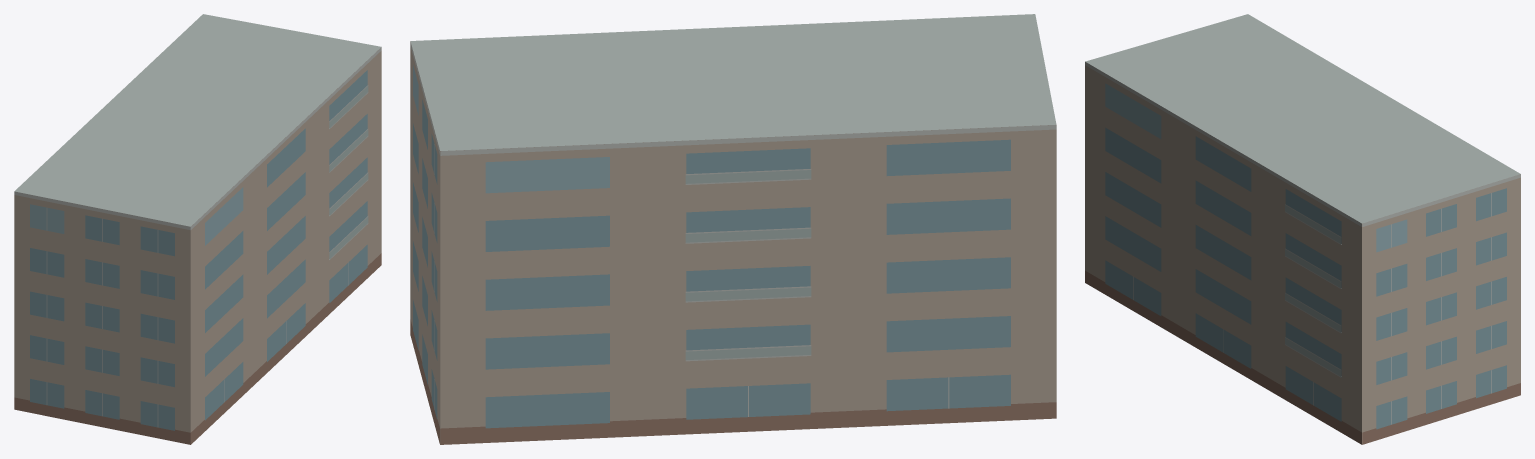
Rendered from survey-upis-32802772.glb.
The picture shows the model from 3 angles, left to right: view 1: azimuth 30°, elevation 25°; view 2: azimuth 150°, elevation 25°; view 3: azimuth 270°, elevation 25°; orthographic projection. The views are drawn at different scales.
Parts seen in each view (by area): view 1: survey-upis-32802772.tmp; view 2: survey-upis-32802772.tmp; view 3: survey-upis-32802772.tmp.
Part boxes in pixels (<box>): survey-upis-32802772.tmp: <box>14,14,381,444</box>; survey-upis-32802772.tmp: <box>410,14,1056,444</box>; survey-upis-32802772.tmp: <box>1085,14,1520,444</box>.
Size of the model in its own units: 30.59 by 15.05 by 26.87.
